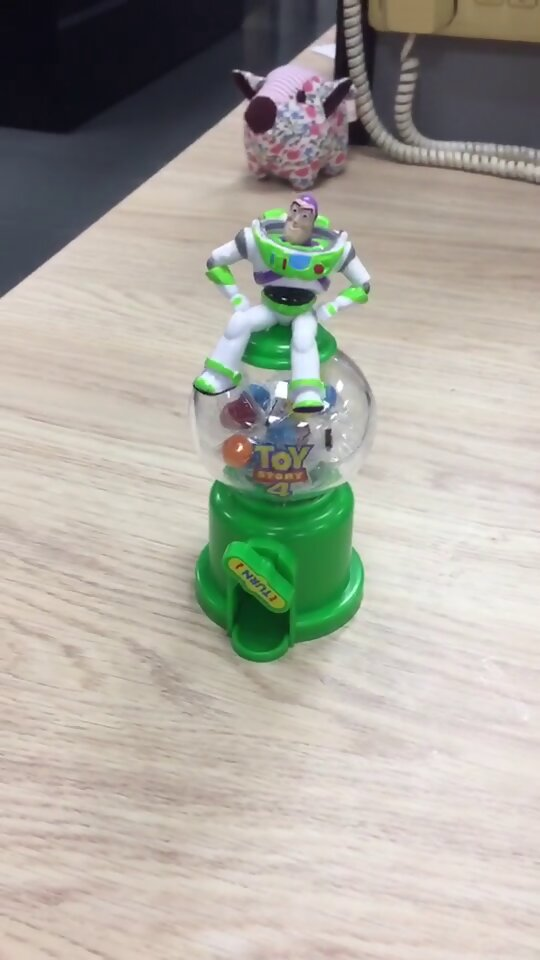buzz: (188, 193, 378, 662)
